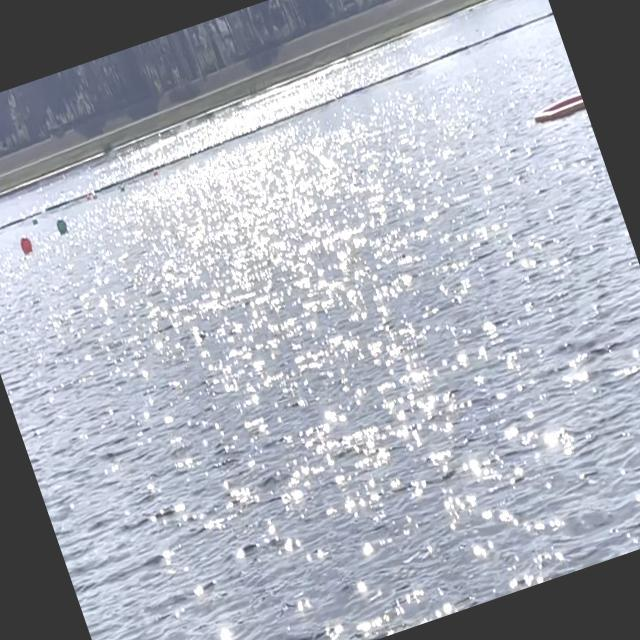buoy: (18, 232, 36, 255), (54, 214, 70, 236)
